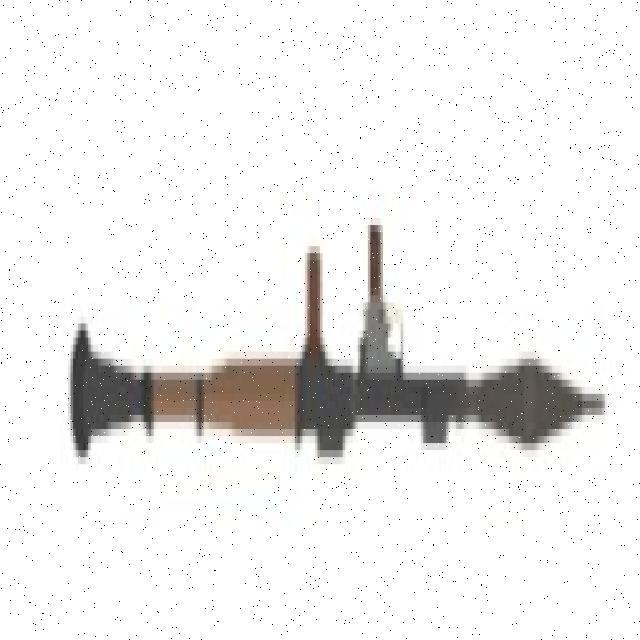bazooka: (67, 217, 608, 490)
